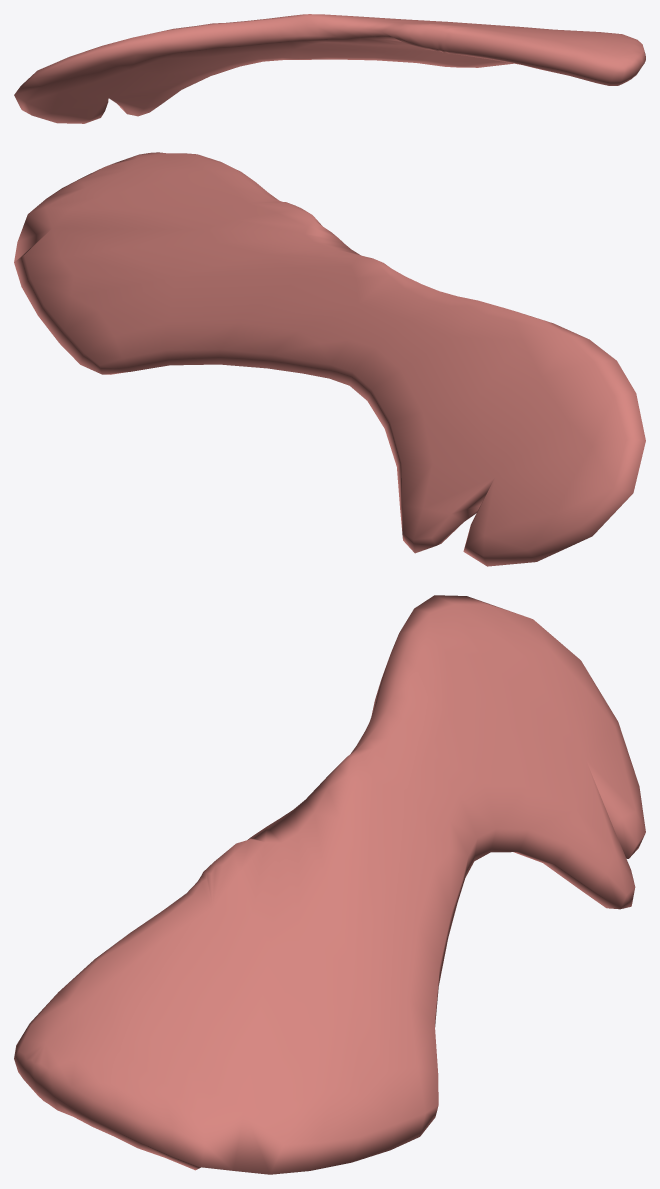
3 views of the same model, one above another, from view 1: azimuth 30°, elevation 25°; view 2: azimuth 150°, elevation 25°; view 3: azimuth 270°, elevation 25° (orthographic). The views are drawn at different scales.
Visible parts, largest first — view 1: ZA_35083191f0d6ab18; view 2: ZA_35083191f0d6ab18; view 3: ZA_35083191f0d6ab18.
Part boxes in pixels (bbox=[...]): ZA_35083191f0d6ab18: bbox=[14, 14, 645, 123]; ZA_35083191f0d6ab18: bbox=[14, 152, 645, 566]; ZA_35083191f0d6ab18: bbox=[14, 595, 645, 1174].
Size of the model in its own units: 0.0111 by 0.00262 by 0.00606.
